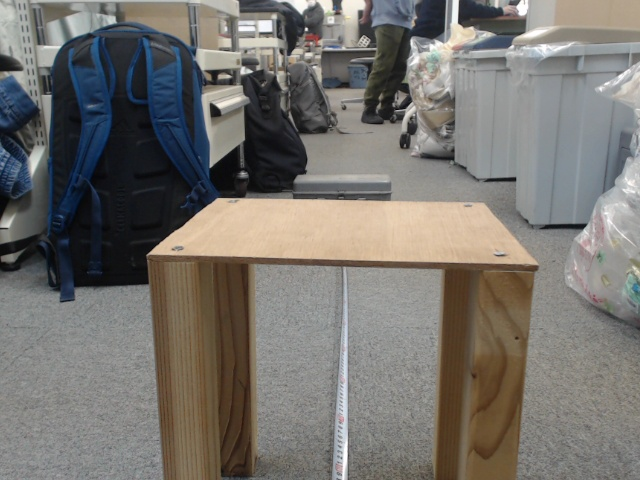desk: (227, 152, 449, 404)
